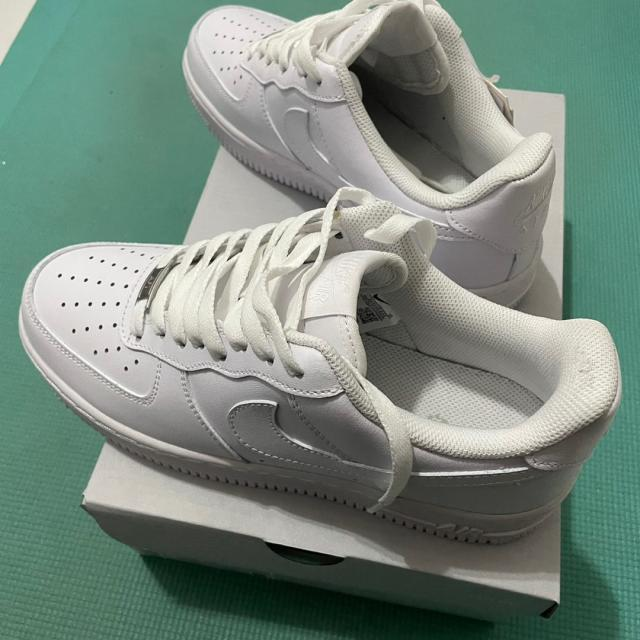nike original air force: (13, 198, 640, 552), (177, 0, 588, 314)
